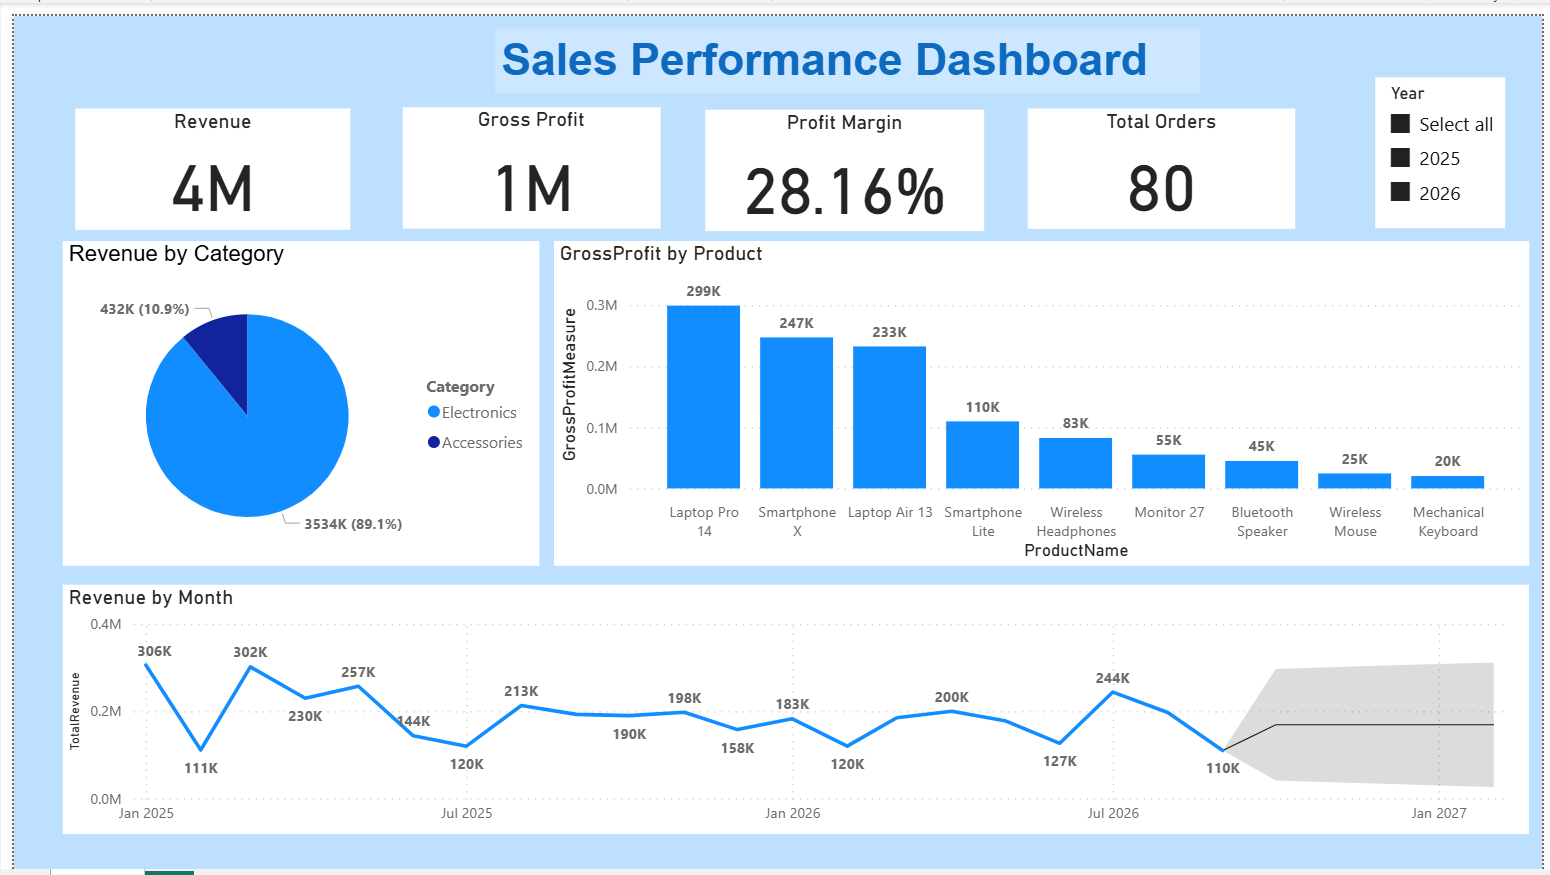

This screenshot's page, from the dashboard's own definition file:
{"tool":"powerbi","page":{"name":"Page 1","canvas":[1280,720],"ordinal":0},"visuals":[{"type":"card","title":"Total Revenue","fields":{"Values":["sales.TotalRevenue"]},"box":[51.3,77.5,230.3,101.6],"z":0},{"type":"pieChart","title":"Revenue by Category","fields":{"Category":["sales.Category"],"Y":["sales.TotalRevenue"]},"box":[41,188.1,399.4,272.2],"z":1000},{"type":"clusteredColumnChart","title":"GrossProfitMeasure by Product","fields":{"Category":["sales.ProductName"],"Y":["sales.GrossProfitMeasure"]},"box":[452,188.1,816.7,272.2],"z":2000},{"type":"card","title":"Gross Profit","fields":{"Values":["sales.GrossProfitMeasure"]},"box":[325.6,76.4,215.7,101.6],"z":3000},{"type":"card","title":"Profit Margin","fields":{"Values":["sales.ProfitMarginMeasure"]},"box":[579,78.5,233.5,101.6],"z":4000},{"type":"card","title":"Total Orders","fields":{"Values":["sales.TotalOrdersMeasure"]},"box":[849.3,77.8,223.9,100.9],"z":5000},{"type":"lineChart","title":"Revenue by Month","fields":{"Category":["sales.OrderDate.Variation.Date Hierarchy.Year","sales.OrderDate.Variation.Date Hierarchy.Month"],"Y":["sales.TotalRevenue"]},"box":[41,476.1,1227.7,209.2],"z":6000},{"type":"slicer","fields":{"Values":["sales.OrderDate.Variation.Date Hierarchy.Year"]},"box":[1140.1,51.3,108.9,126.7],"z":7000},{"type":"textbox","box":[403.1,10.5,590.5,54.4],"z":8000}]}

Visuals, with their boxes in screenshot pixels (x1, y1, x2, y2), scaled from the page's 1280x720 canvas onto the 1550x875 screenshot:
"Total Revenue" card: (62,94,341,218)
"Revenue by Category" pieChart: (50,229,533,559)
"GrossProfitMeasure by Product" clusteredColumnChart: (547,229,1536,559)
"Gross Profit" card: (394,93,655,216)
"Profit Margin" card: (701,95,984,219)
"Total Orders" card: (1028,95,1300,217)
"Revenue by Month" lineChart: (50,579,1536,833)
slicer - sales.OrderDate.Variation.Date Hierarchy.Year: (1381,62,1512,216)
textbox: (488,13,1203,79)
